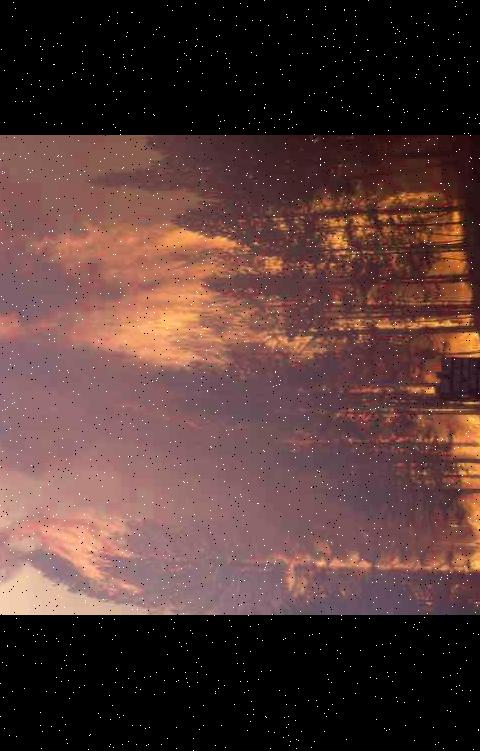fire: (0, 168, 480, 609)
